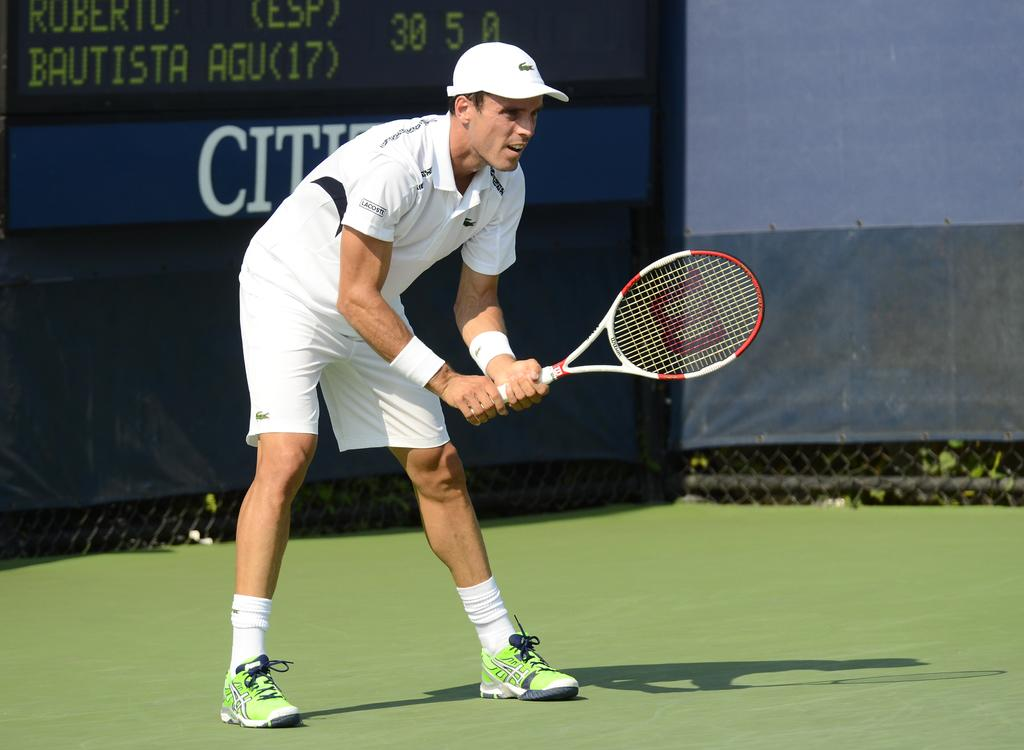Hat: (448, 40, 568, 106)
